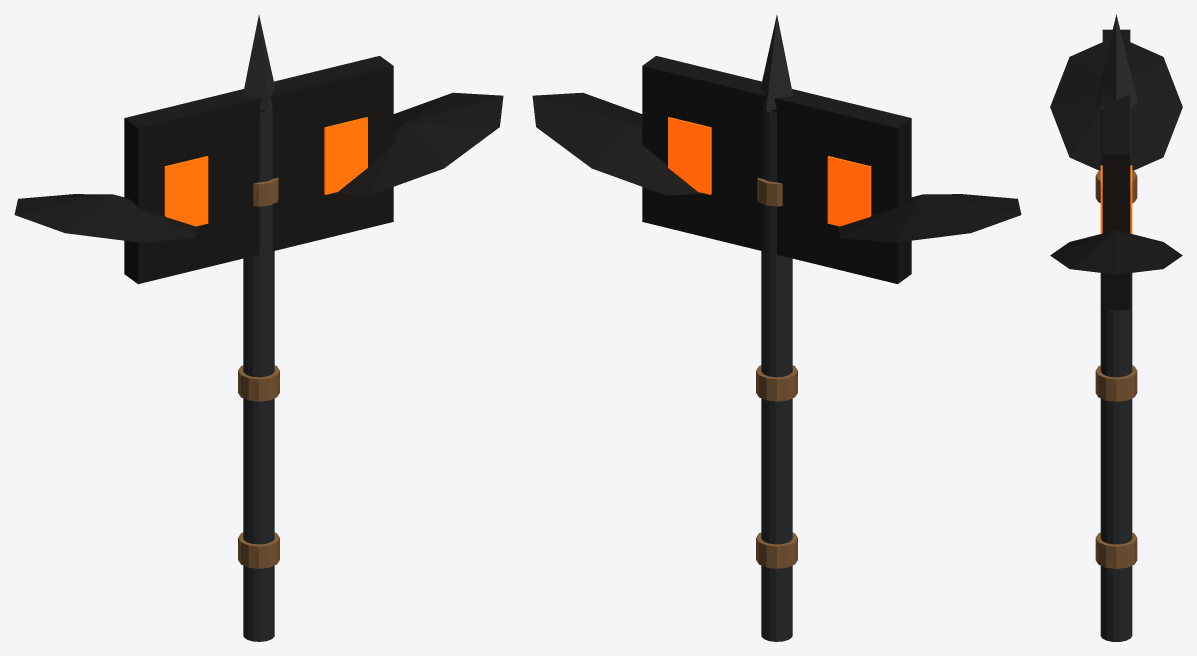
The model's file is WEAPON_011_Machado_Runico_de_Basalto.glb.
3 renders of one model, left to right at view 1: azimuth 30°, elevation 25°; view 2: azimuth 150°, elevation 25°; view 3: azimuth 270°, elevation 25°, orthographic.
Parts seen in each view (by area): view 1: Axe_Head_Core, Axe_Shaft, Cone, Cone.001, Cube.001, Cube, Axe_Top_Spike, Cylinder.001, Cylinder; view 2: Axe_Head_Core, Axe_Shaft, Cone, Cone.001, Cube.001, Cube, Axe_Top_Spike, Cylinder.001, Cylinder; view 3: Axe_Shaft, Cone.001, Axe_Head_Core, Cone, Axe_Top_Spike, Cylinder, Cylinder.001, Cube, Cylinder.002.
Boxes of the visible parts, x1,y1,x2,y2 form: Axe_Head_Core: [124, 56, 393, 284]; Axe_Shaft: [243, 109, 274, 641]; Cone: [333, 92, 503, 195]; Cone.001: [14, 194, 198, 242]; Cube.001: [164, 156, 208, 226]; Cube: [324, 117, 367, 194]; Axe_Top_Spike: [242, 15, 275, 110]; Cylinder.001: [238, 365, 279, 401]; Cylinder: [238, 532, 279, 568]; Axe_Head_Core: [642, 56, 911, 284]; Axe_Shaft: [761, 109, 792, 641]; Cone: [532, 92, 702, 195]; Cone.001: [837, 194, 1021, 242]; Cube.001: [827, 156, 871, 226]; Cube: [668, 117, 711, 194]; Axe_Top_Spike: [760, 15, 793, 110]; Cylinder.001: [756, 365, 797, 401]; Cylinder: [756, 532, 797, 568]; Axe_Shaft: [1100, 106, 1132, 641]; Cone.001: [1050, 42, 1182, 170]; Axe_Head_Core: [1102, 29, 1130, 310]; Cone: [1050, 230, 1182, 274]; Axe_Top_Spike: [1095, 14, 1137, 106]; Cylinder: [1095, 532, 1137, 568]; Cylinder.001: [1095, 365, 1137, 401]; Cube: [1100, 165, 1132, 233]; Cylinder.002: [1095, 170, 1137, 202].
Size of the model in its own units: 0.9186 by 1.12 by 0.216.
